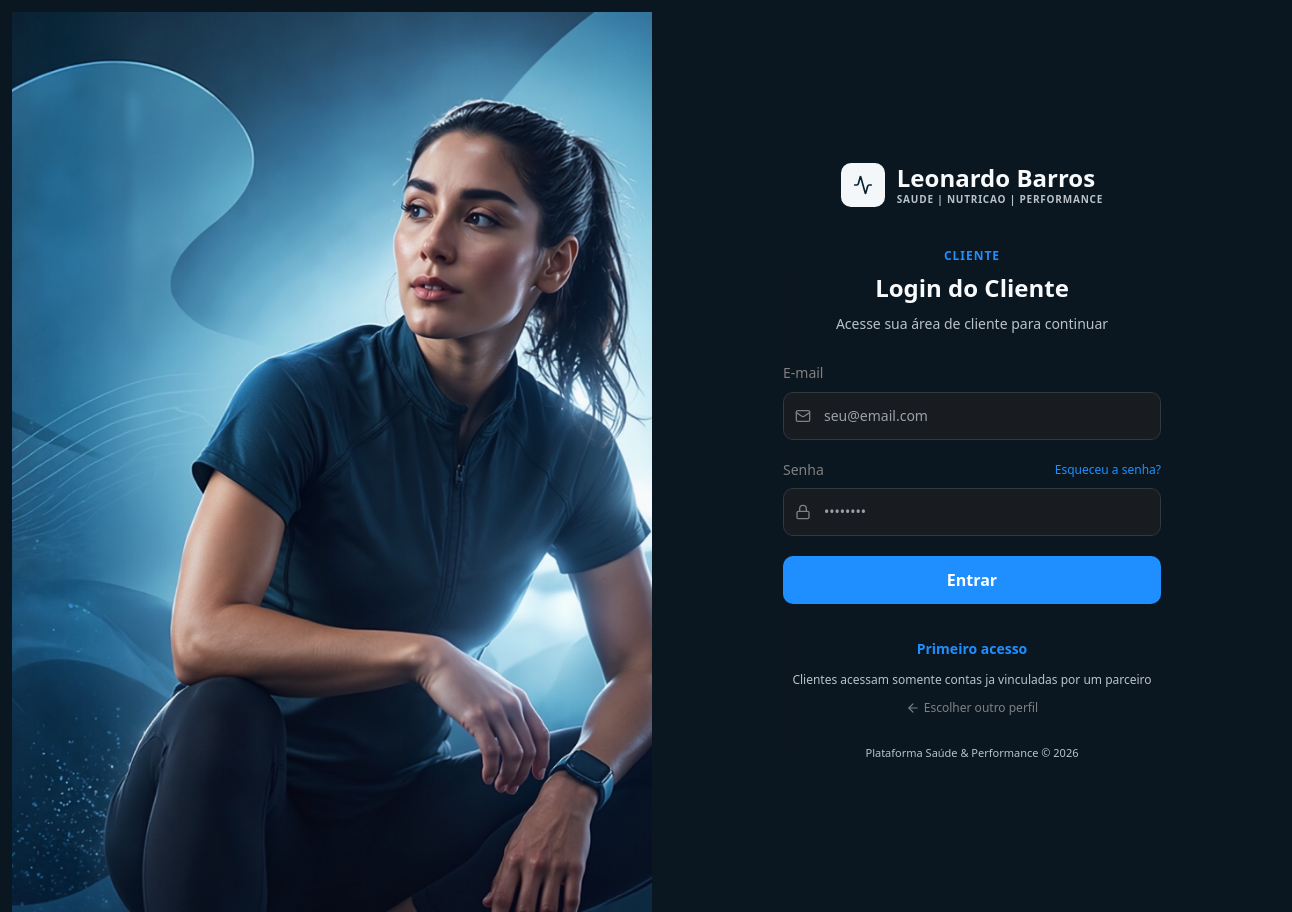
Test: NextLoginForm › mostra erro seguro quando o servidor rejeita o login
Type "cliente@example.com" into the field labelled "E-mail" at (972, 416), box [783,392,1161,440]
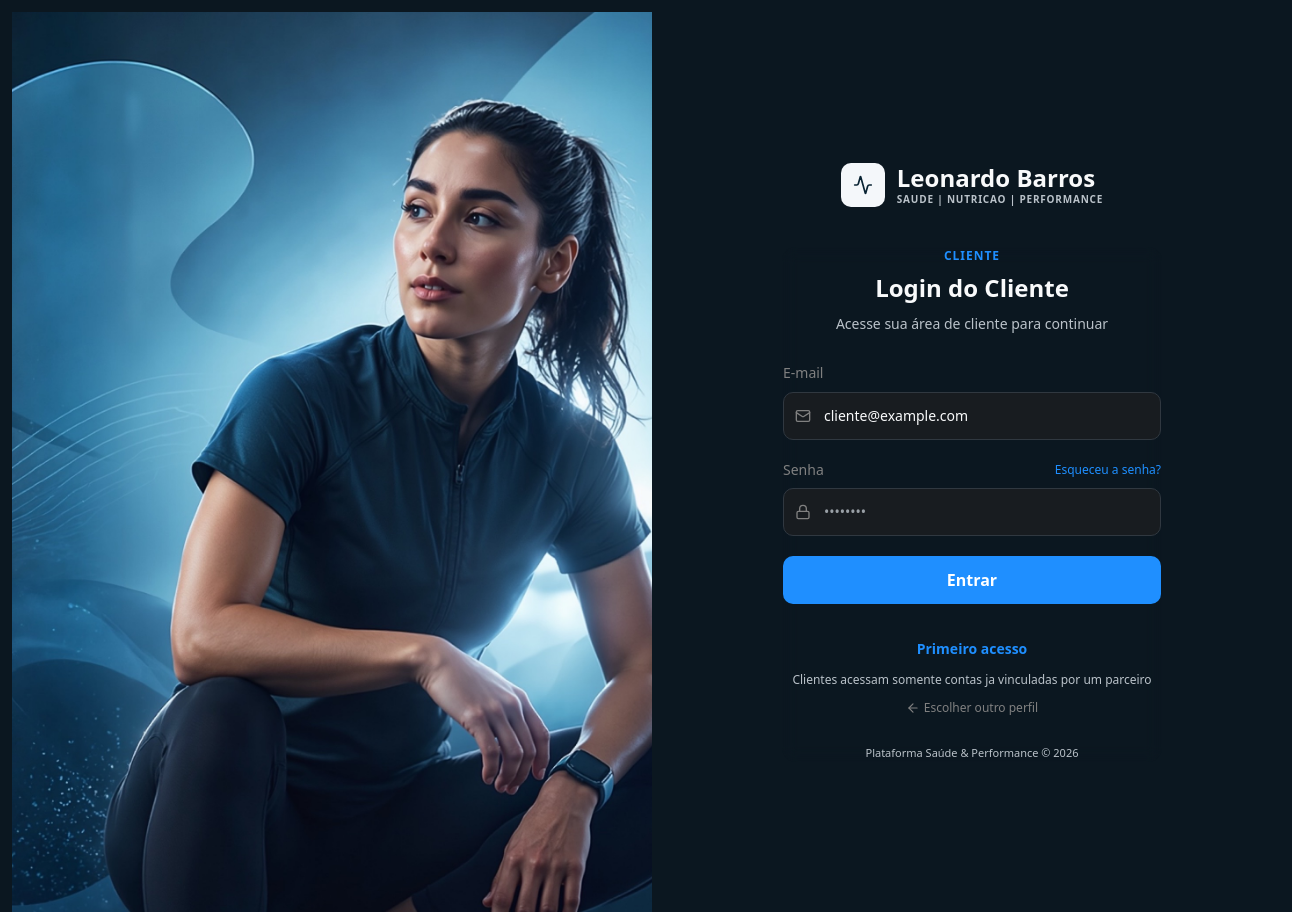
Type "errada" into the password field labelled "Senha" at (972, 512), box [783,488,1161,536]
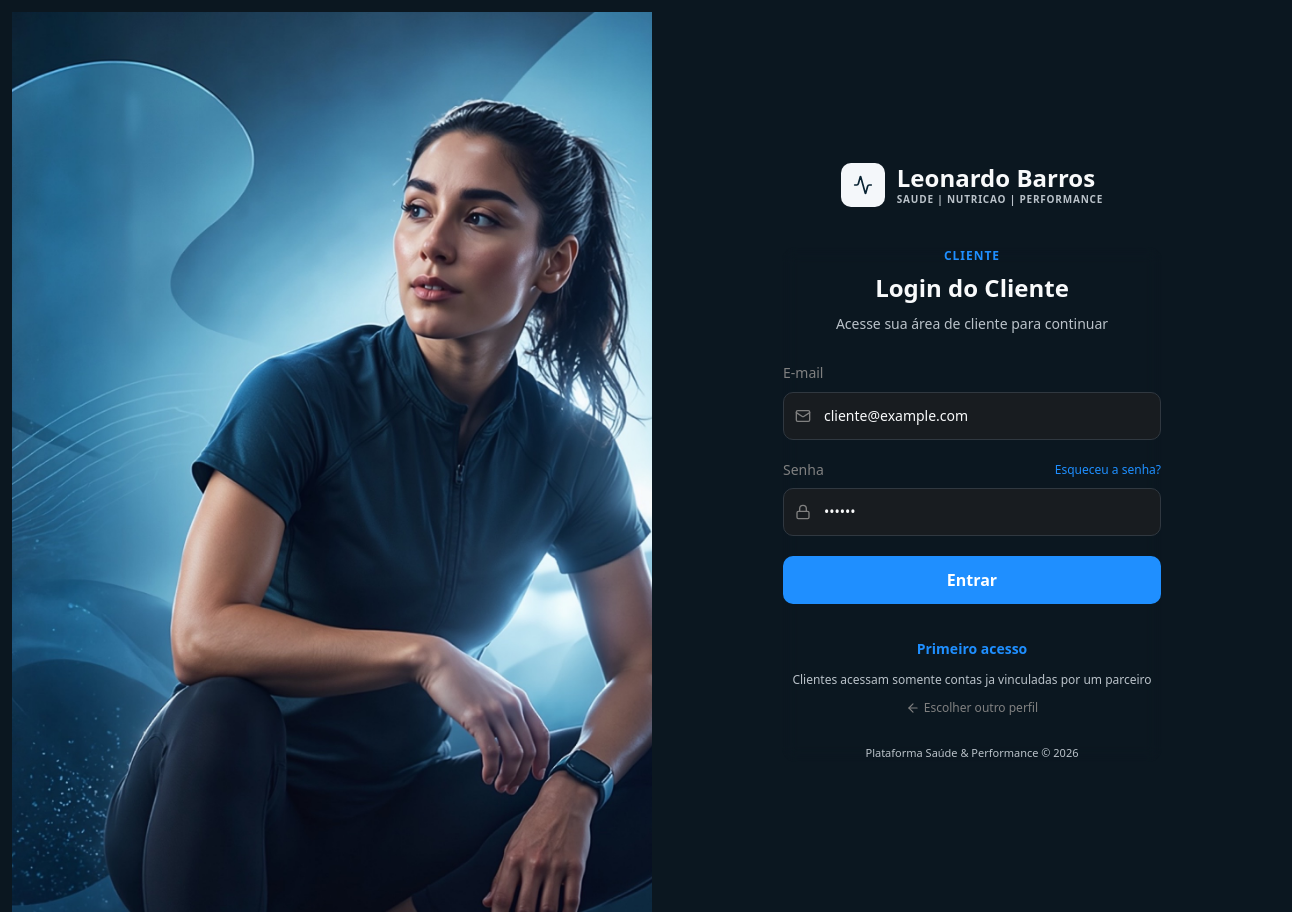
Click the button "Entrar" at (972, 580), box [783,556,1161,604]
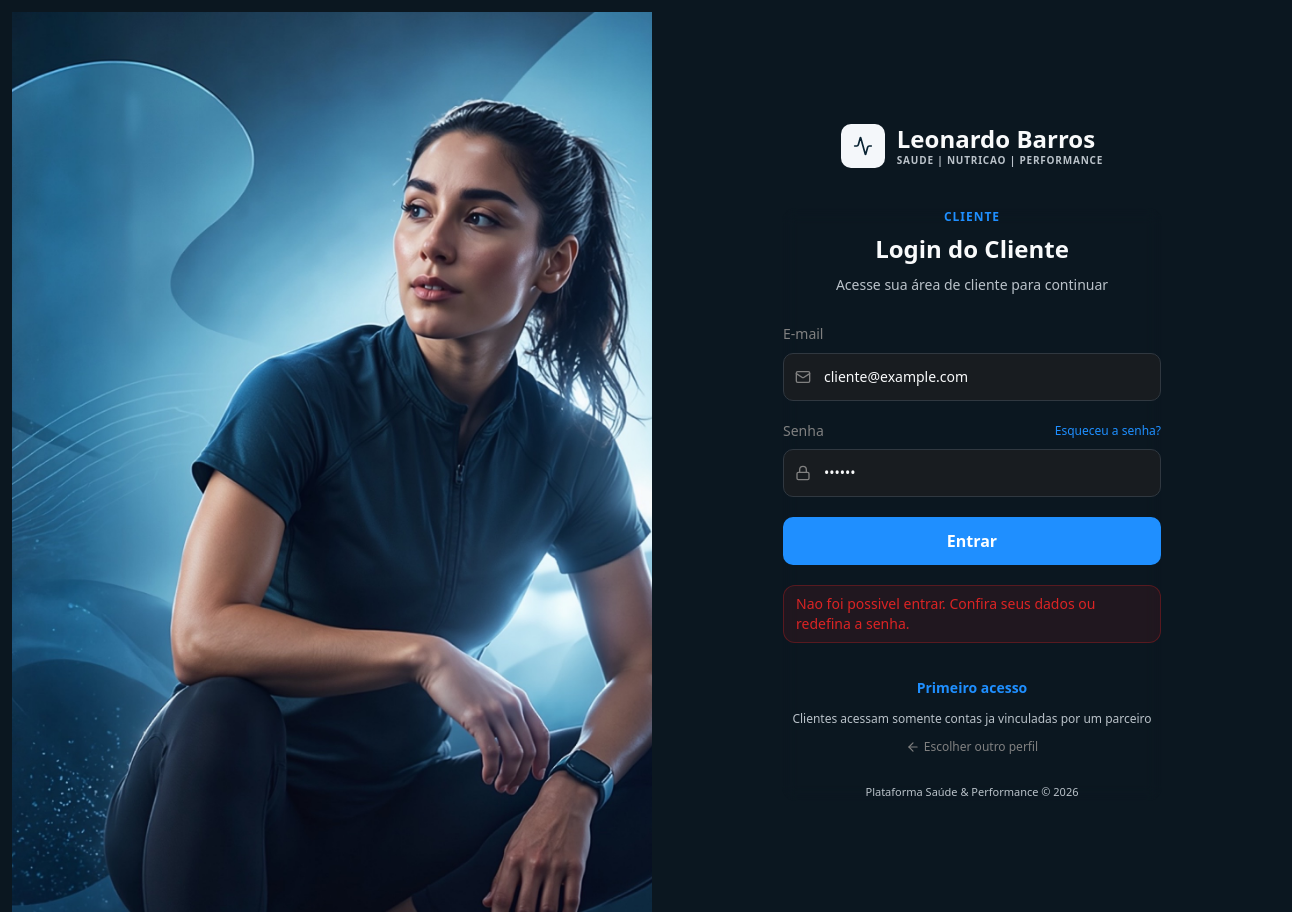
Expected: the message reads "Nao foi possivel entrar. Confira seus dados ou redefina a senha.", [796,594,1095,632]
